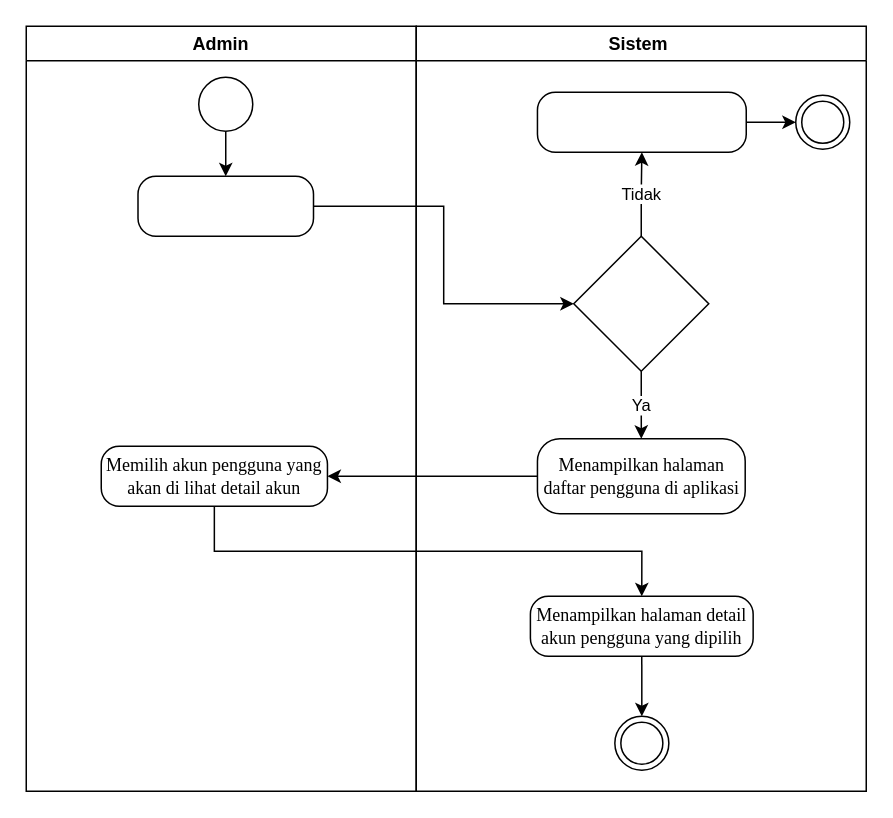
This 893x818 diagram has some shape labels left out. Here are the shapes that lost their labels. From the top down, the centre of each, then its label:
(x=641, y=121): Menampilkan Halaman "403 - Forbidden"
(x=225, y=205): Memilih Menu Pengguna
(x=640, y=303): apakah akun admin?
